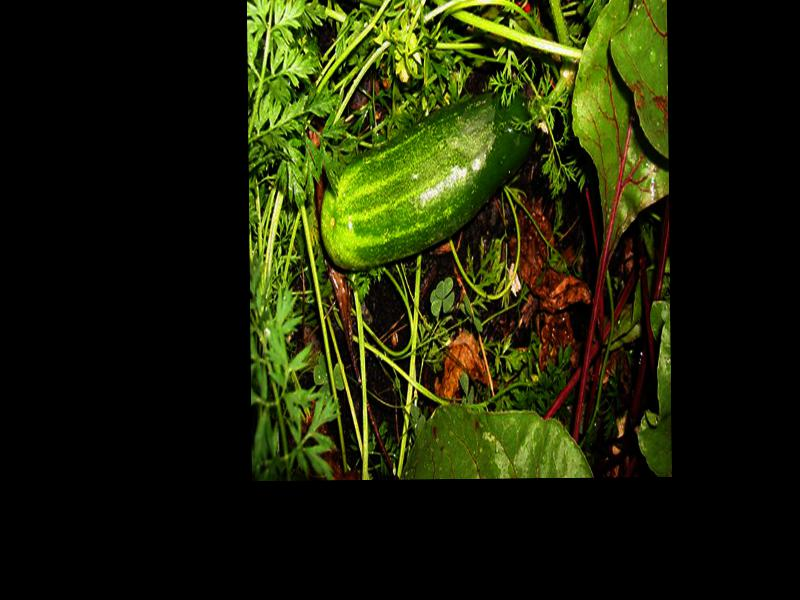Cucumber: (322, 82, 537, 272)
